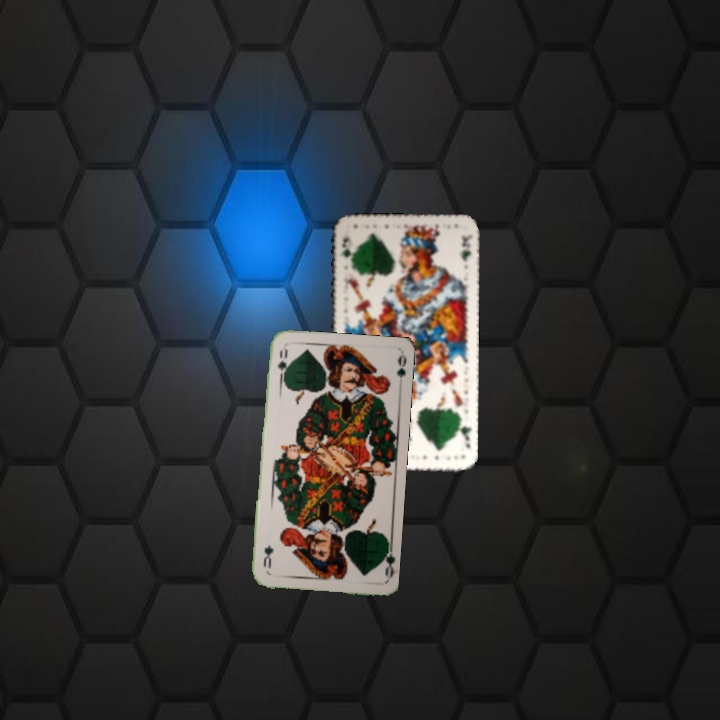GK: (454, 417, 474, 451), (338, 232, 354, 269)
GO: (376, 540, 396, 581), (273, 344, 289, 384)
